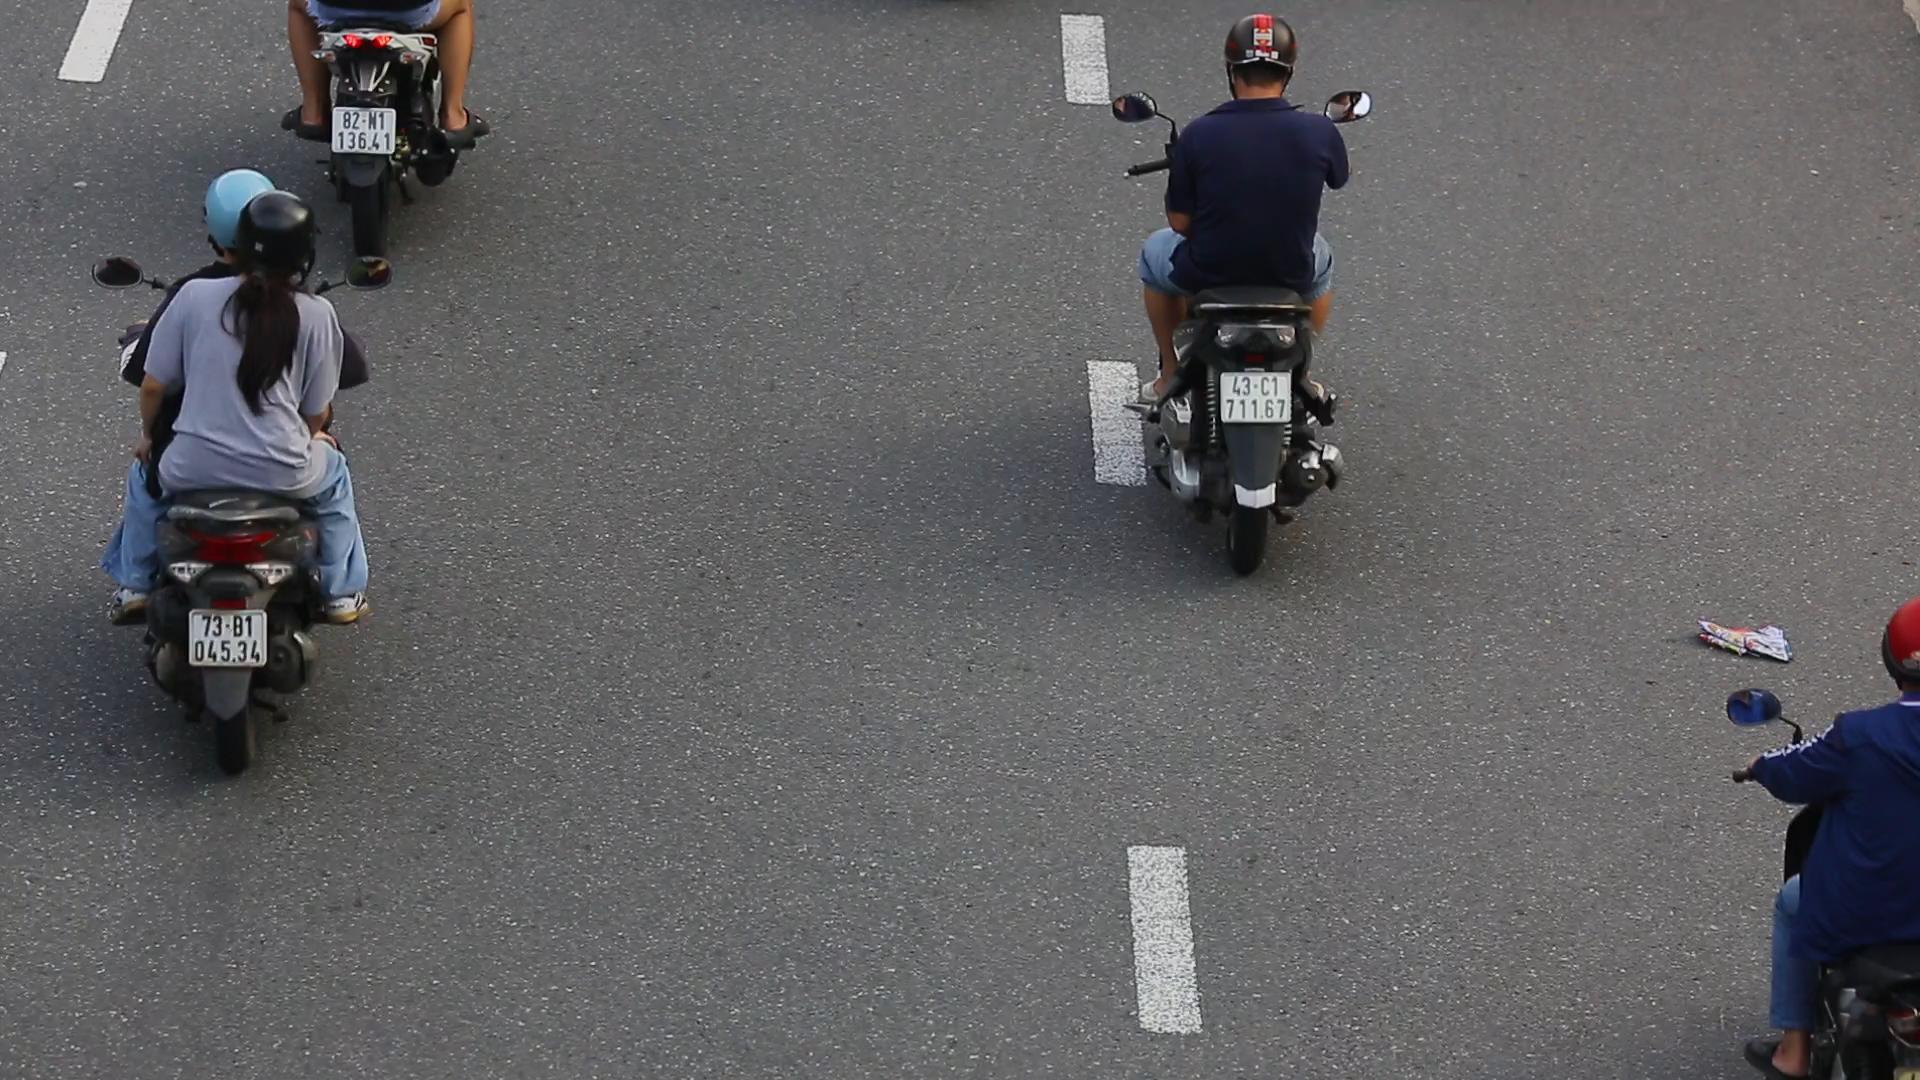motobike: (80, 150, 404, 796), (1101, 5, 1403, 571)
